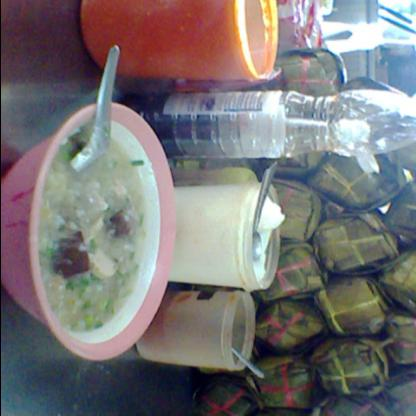Joke: (19, 108, 162, 350)
